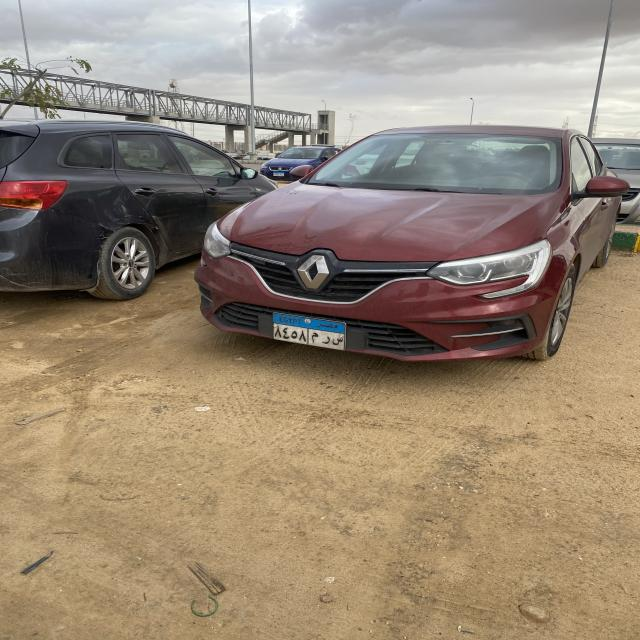License Plate: (272, 312, 345, 352), (273, 172, 284, 177)
